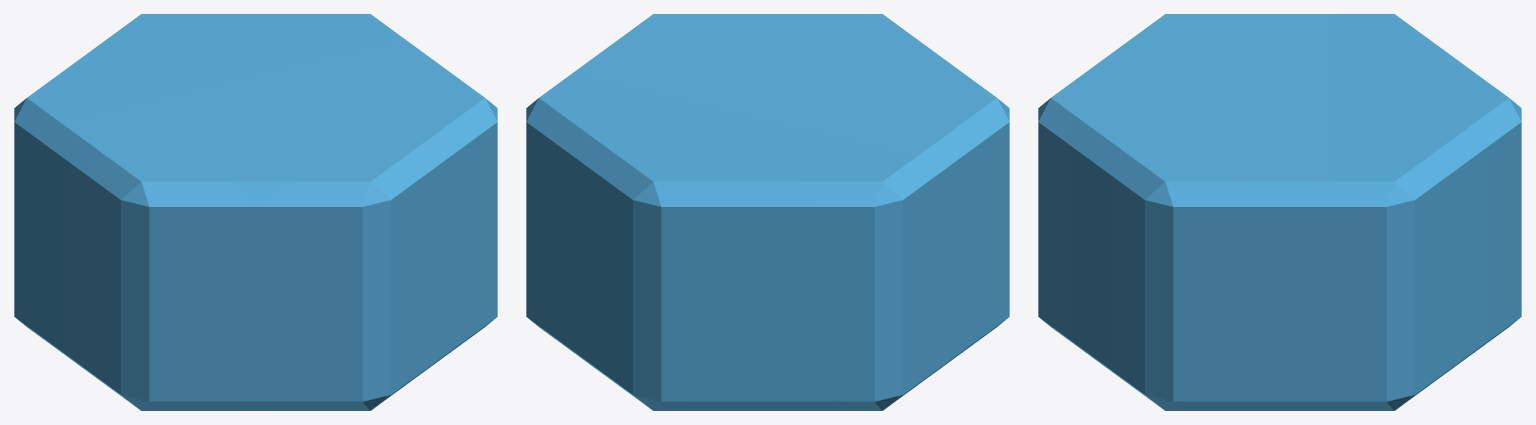
File: water.obj
3 views of the same model, side by side, from view 1: azimuth 30°, elevation 25°; view 2: azimuth 150°, elevation 25°; view 3: azimuth 270°, elevation 25° (orthographic).
Parts seen in each view (by area): view 1: Circle; view 2: Circle; view 3: Circle.
Boxes of the visible parts, x1=… form: Circle: x1=14, y1=14, x2=497, y2=410; Circle: x1=526, y1=14, x2=1009, y2=410; Circle: x1=1038, y1=14, x2=1521, y2=410.
Size of the model in its own units: 1.73 by 1.01 by 1.92.
